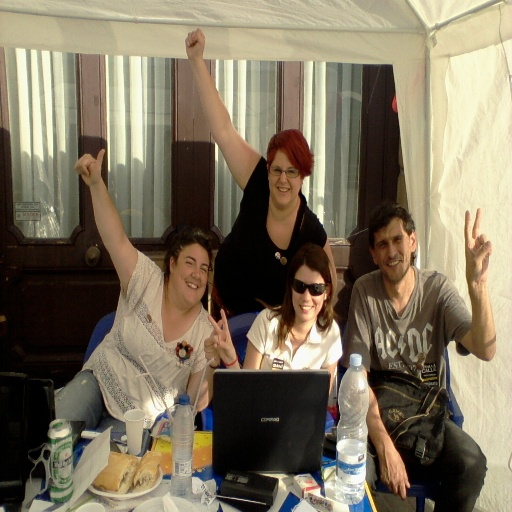hand: (462, 190, 500, 365), (377, 449, 412, 499), (206, 306, 236, 362), (74, 147, 102, 185), (204, 318, 222, 365), (184, 27, 206, 64)
